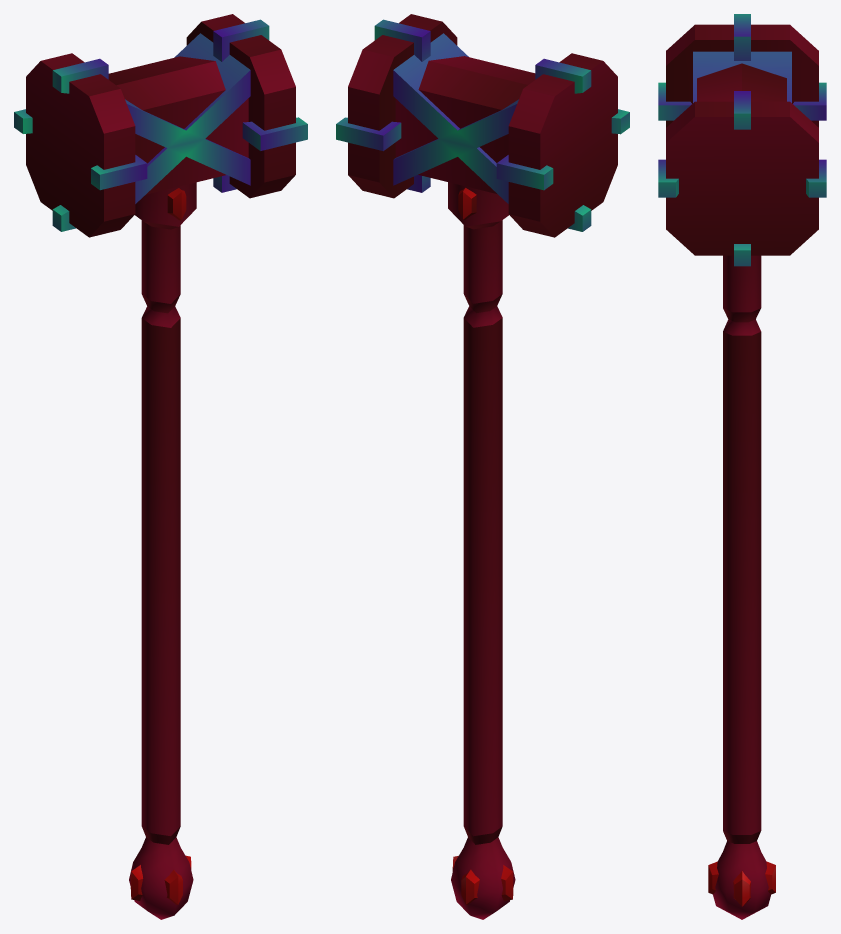
Rendered from Hammer2h_19.fbx.
3 views of the same model, side by side, from view 1: azimuth 30°, elevation 25°; view 2: azimuth 150°, elevation 25°; view 3: azimuth 270°, elevation 25° (orthographic).
Parts seen in each view (by area): view 1: Hammer2h_19; view 2: Hammer2h_19; view 3: Hammer2h_19.
Part boxes in pixels (box(x1,y1,x2,y2)): Hammer2h_19: box(14, 14, 307, 919); Hammer2h_19: box(336, 14, 629, 919); Hammer2h_19: box(658, 14, 826, 919).
Size of the model in its own units: 35.74 by 143 by 25.55.
